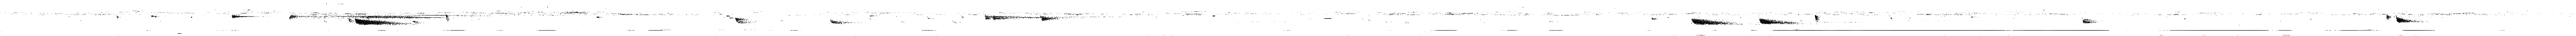meteor: (355, 18, 406, 25), (1690, 18, 1741, 25), (1758, 18, 1799, 25), (2395, 16, 2422, 23), (992, 15, 1025, 20), (830, 18, 853, 25), (734, 16, 749, 25), (1040, 16, 1060, 21), (2081, 18, 2098, 23), (232, 15, 255, 18), (1814, 15, 1820, 23), (445, 15, 450, 21), (2385, 13, 2390, 20), (151, 15, 158, 18)
